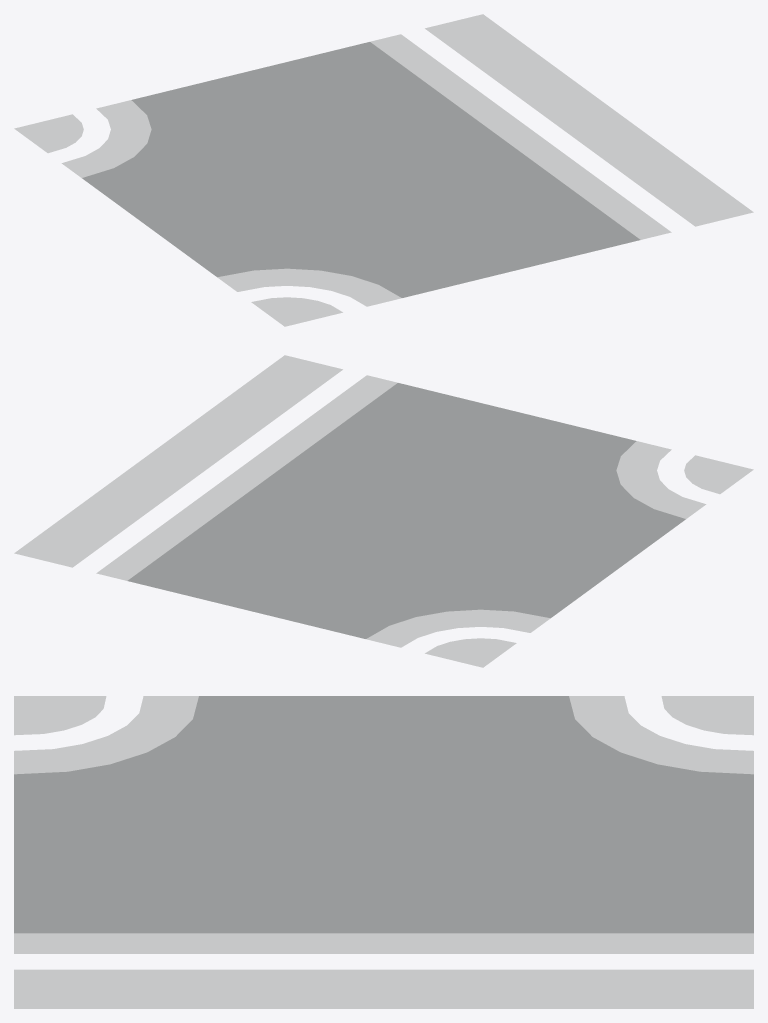
The model's file is Ceiling_type_A_034_012.glb.
3 views of the same model, one above another, from view 1: azimuth 30°, elevation 25°; view 2: azimuth 150°, elevation 25°; view 3: azimuth 270°, elevation 25° (orthographic). The views are drawn at different scales.
Visible parts, largest first — view 1: Ceiling_type_A_034.012; view 2: Ceiling_type_A_034.012; view 3: Ceiling_type_A_034.012.
Boxes of the visible parts, left/top/right/bottom form: Ceiling_type_A_034.012: left=14, top=14, right=753, bottom=326; Ceiling_type_A_034.012: left=14, top=355, right=753, bottom=667; Ceiling_type_A_034.012: left=14, top=696, right=753, bottom=1008.
Bounding box in the file's own units: 4 × 0.012 × 4.
Materials: 2 (2 with a texture image).
